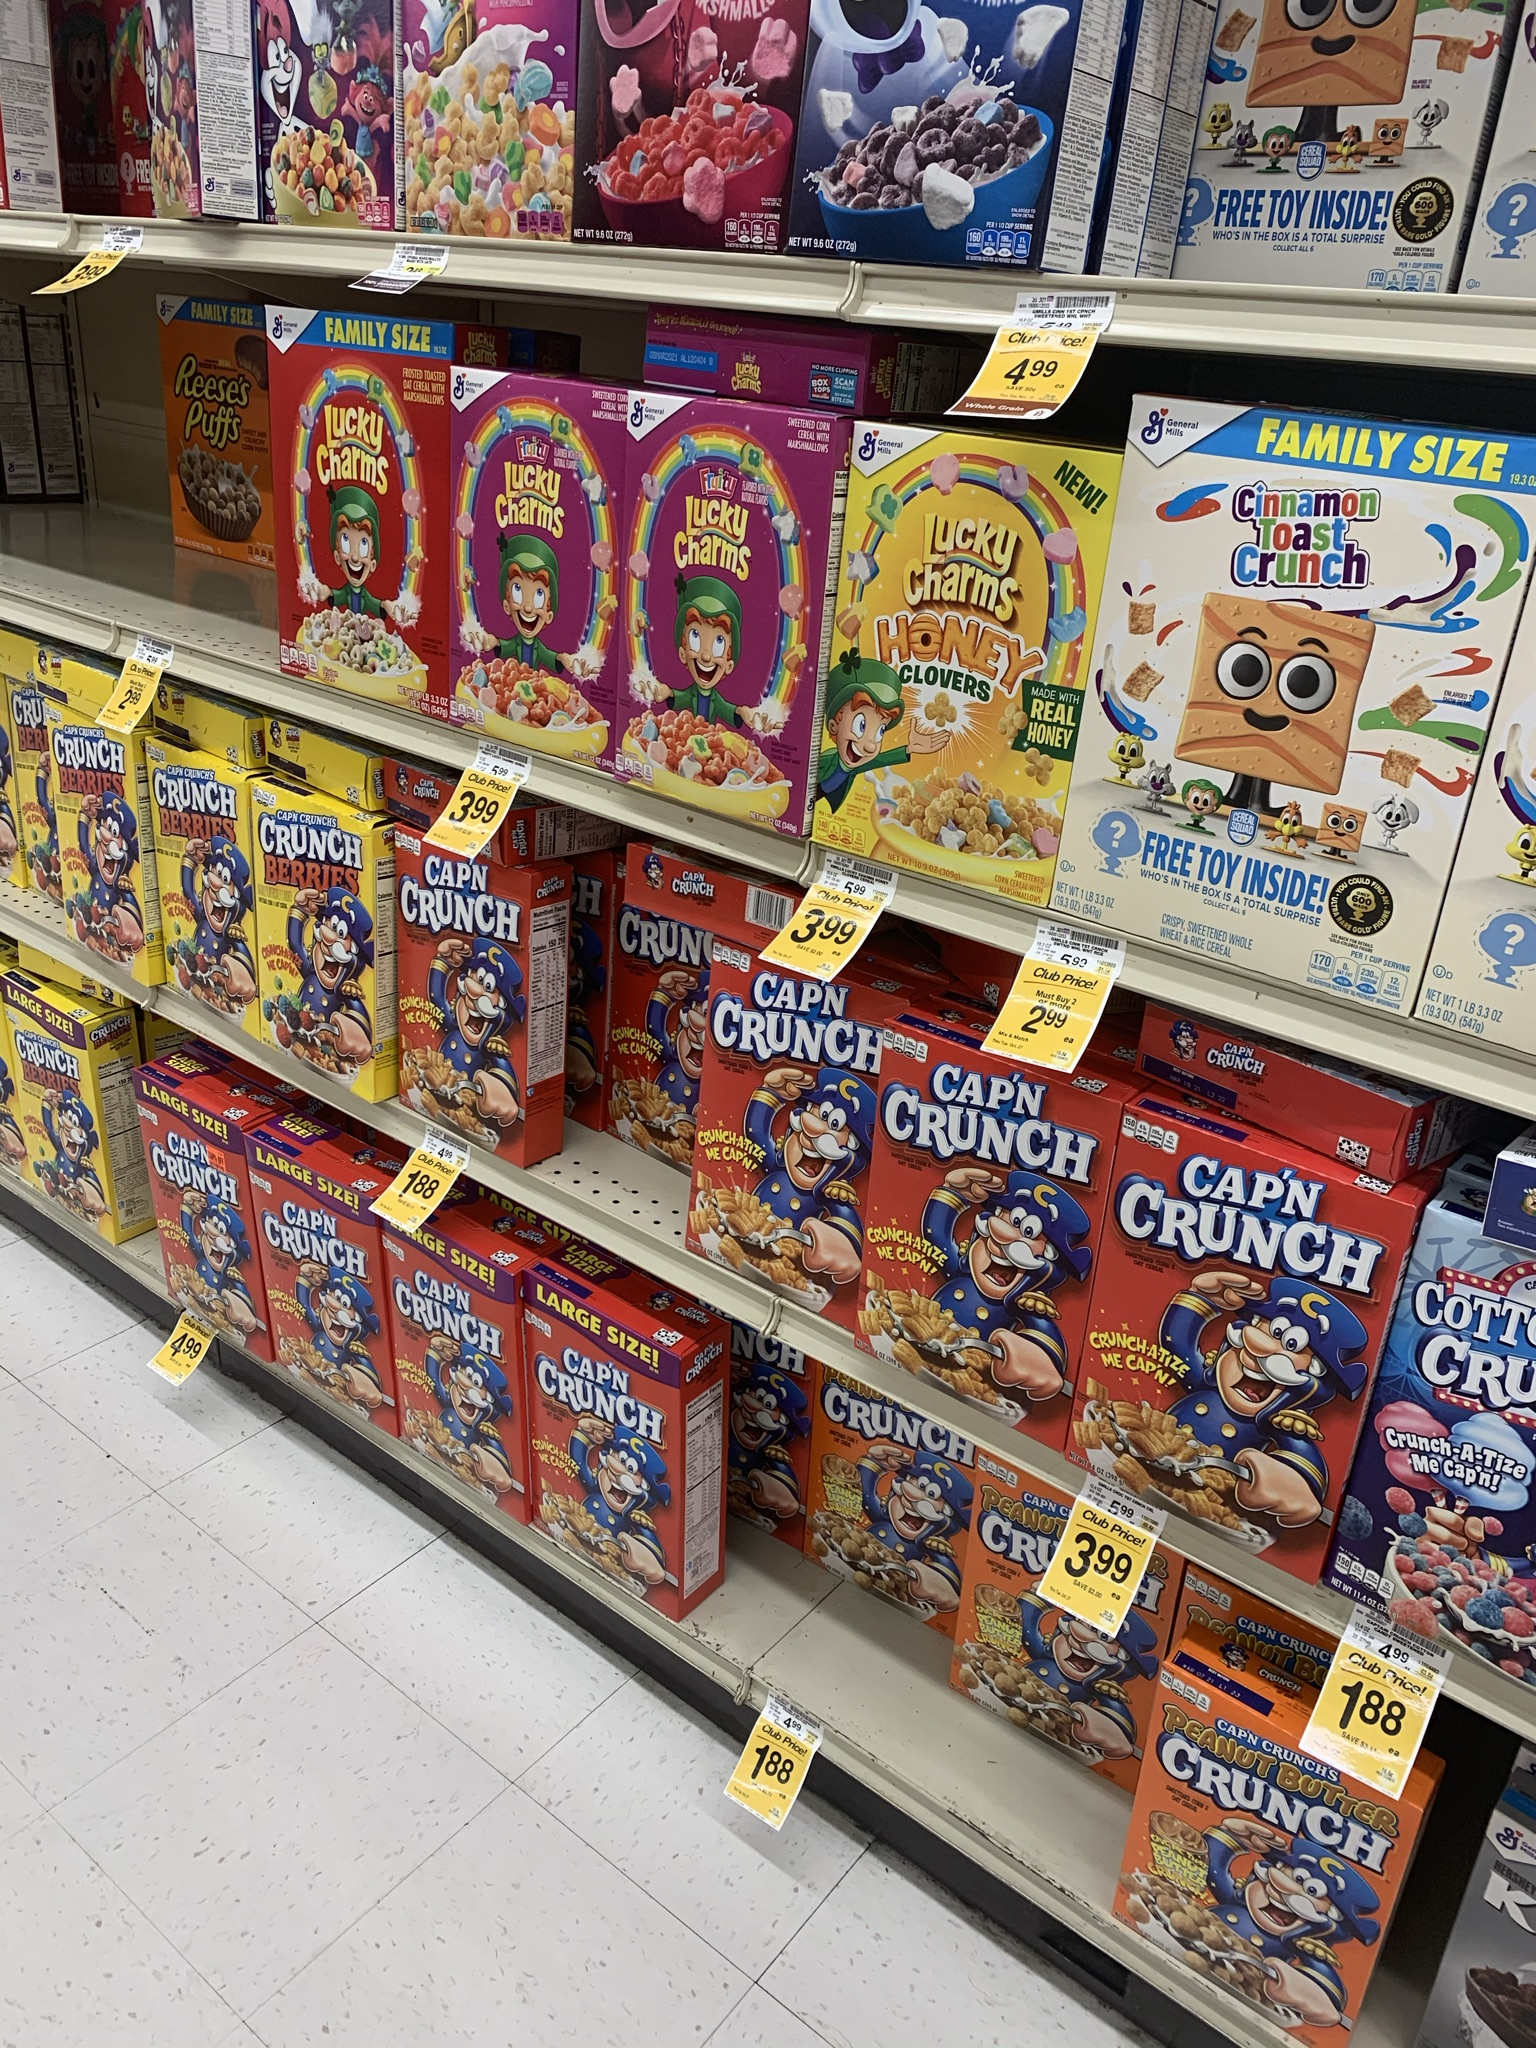cereal: (1112, 387, 1431, 1005), (1112, 1105, 1344, 1571), (842, 421, 1054, 919), (1128, 1658, 1397, 2021), (887, 1043, 1084, 1467), (624, 389, 799, 847), (269, 313, 450, 719), (450, 369, 620, 761), (710, 953, 865, 1335), (528, 1285, 691, 1601), (378, 1227, 520, 1519), (124, 1077, 265, 1359), (250, 1155, 387, 1421), (397, 839, 510, 1159), (153, 293, 274, 561), (145, 751, 261, 1014), (261, 810, 366, 1087), (11, 985, 111, 1232), (52, 719, 142, 968)
